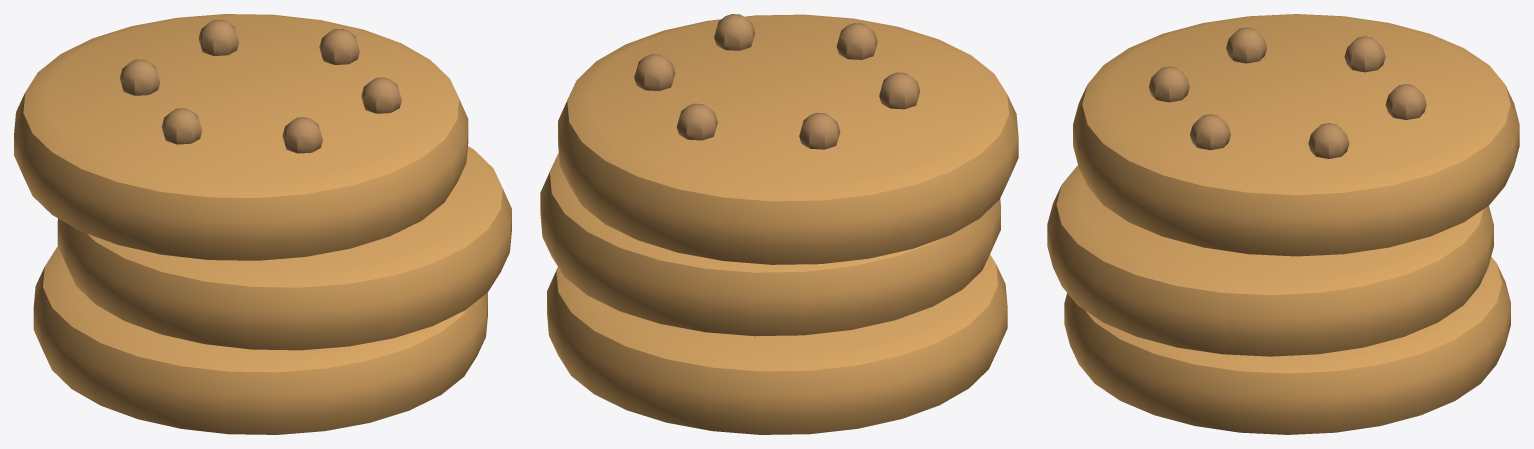
File: biscuit.glb
The picture shows the model from 3 angles, left to right: view 1: azimuth 30°, elevation 25°; view 2: azimuth 150°, elevation 25°; view 3: azimuth 270°, elevation 25°; orthographic projection. The views are drawn at different scales.
Visible parts, largest first — view 1: biscuit.001, crate; view 2: biscuit.001, crate; view 3: biscuit.001, crate.
Boxes of the visible parts, x1,y1,x2,y2 form: biscuit.001: [14, 14, 511, 434]; crate: [120, 19, 401, 153]; biscuit.001: [540, 14, 1018, 434]; crate: [634, 14, 920, 149]; biscuit.001: [1047, 14, 1519, 434]; crate: [1149, 27, 1426, 158].
Size of the model in its own units: 0.28 by 0.177 by 0.275.
